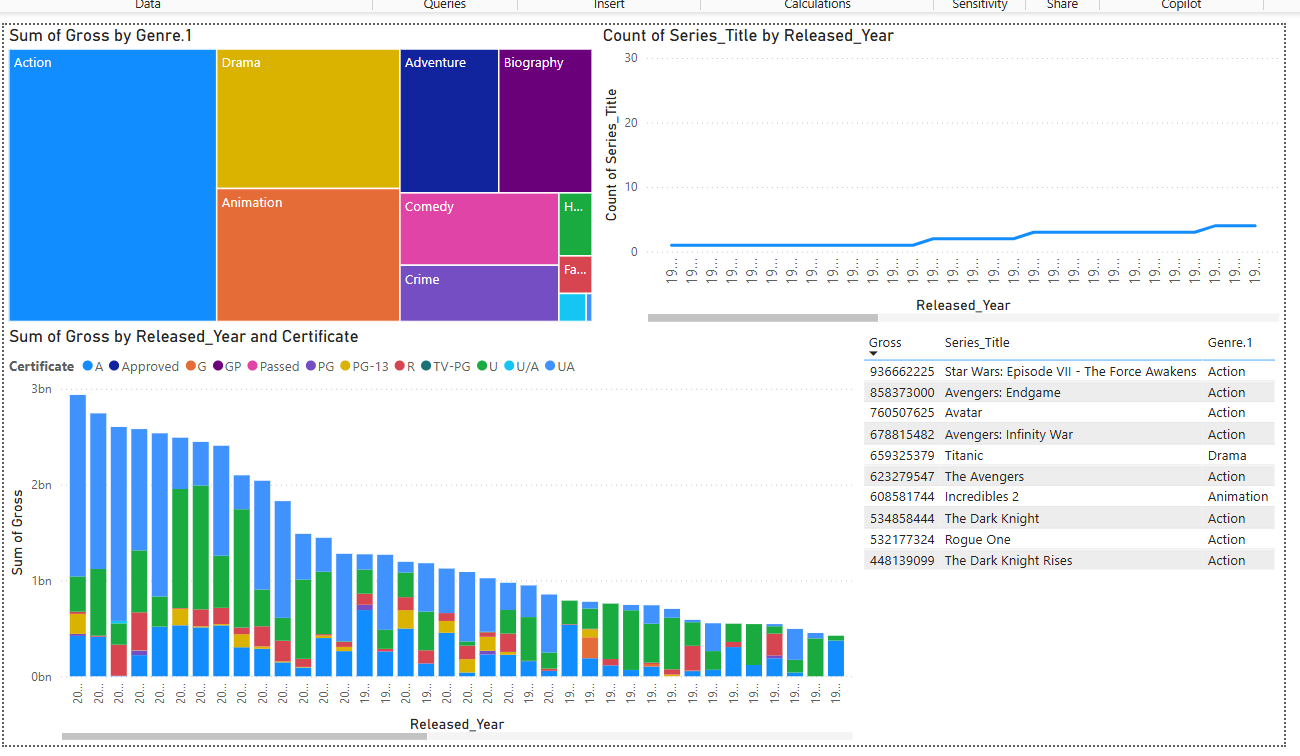

What the dashboard file says about the page in this screenshot:
{"tool":"powerbi","page":{"name":"Page 2","canvas":[1280,720],"ordinal":1},"visuals":[{"type":"treemap","title":"Box Office Revenue by Genre","fields":{"Group":["imdb_top_1000 (2).Genre.1"],"Values":["Sum(imdb_top_1000 (2).Gross)"]},"box":[0,0,593.3,301.7],"z":5},{"type":"columnChart","title":"Number of Movies Released by Year","fields":{"Y":["CountNonNull(imdb_top_1000 (2).Series_Title)"],"Category":["imdb_top_1000 (2).Released_Year"]},"box":[593.3,0,686.7,301.7],"z":6},{"type":"columnChart","title":"Box Office Gross by Rating and Year","fields":{"Category":["imdb_top_1000 (2).Released_Year"],"Series":["imdb_top_1000 (2).Certificate"],"Y":["Sum(imdb_top_1000 (2).Gross)"]},"box":[0,301.2,853.8,418.8],"z":7},{"type":"tableEx","fields":{"Values":["imdb_top_1000 (2).Gross","imdb_top_1000 (2).Series_Title","imdb_top_1000 (2).Genre.1"]},"box":[853.8,301.2,426.2,260],"z":8}]}

Visuals, with their boxes on the page's 1280x720 design canvas (x1, y1, x2, y2). These are canvas units, not pixel positions in the 1300x756 screenshot, which may show the page scaled, cropped or inside an application window:
"Box Office Revenue by Genre" treemap: locate(0, 0, 593, 302)
"Number of Movies Released by Year" columnChart: locate(593, 0, 1280, 302)
"Box Office Gross by Rating and Year" columnChart: locate(0, 301, 854, 720)
tableEx - imdb_top_1000 (2).Gross x imdb_top_1000 (2).Series_Title: locate(854, 301, 1280, 561)
